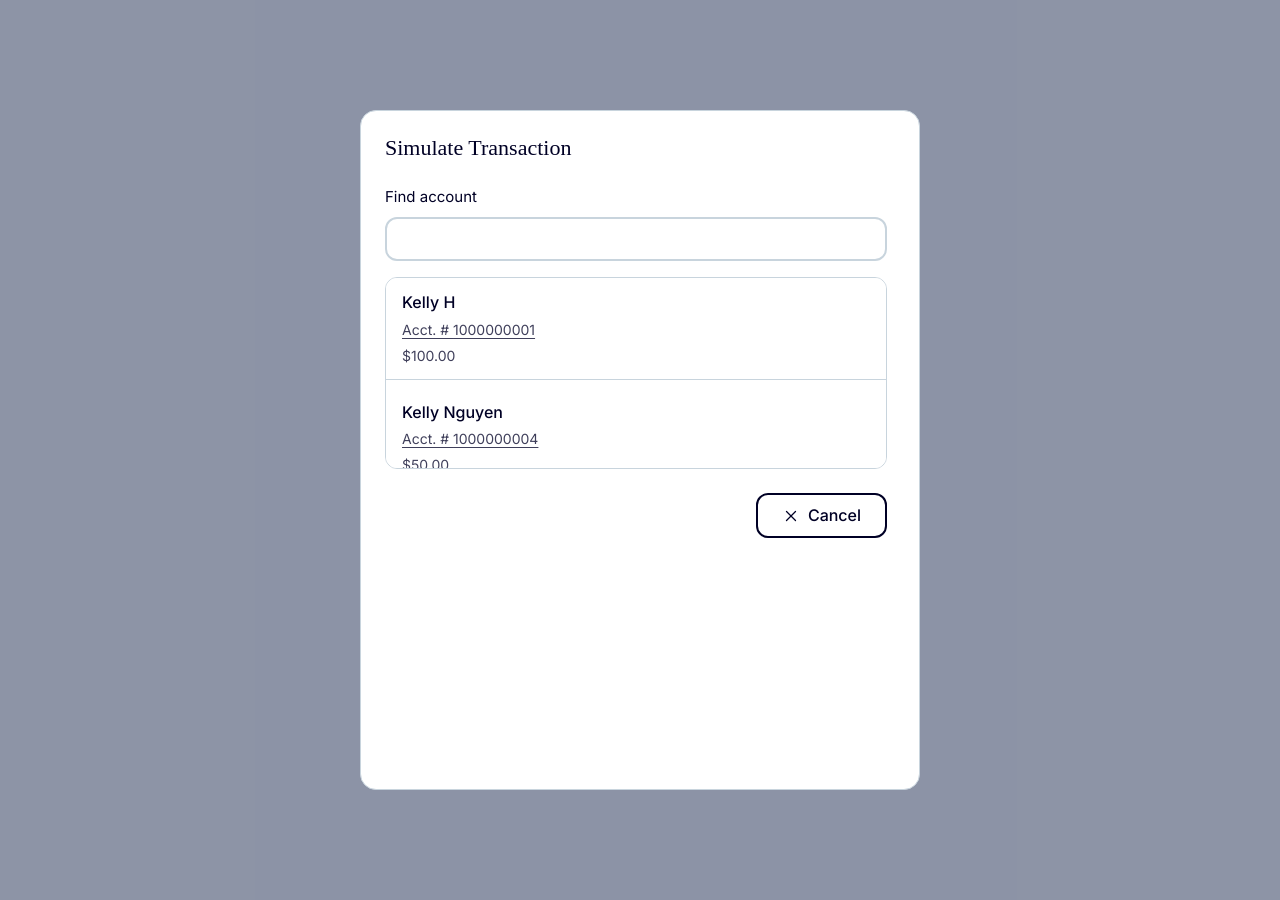
it: SimulateTransactionModal › shows purchase fields when a carded account is selected and a token is ready
Type "Kelly H" into the field labelled "Find account".
click(636, 239); type("Kelly H")  # box [385, 217, 887, 261]
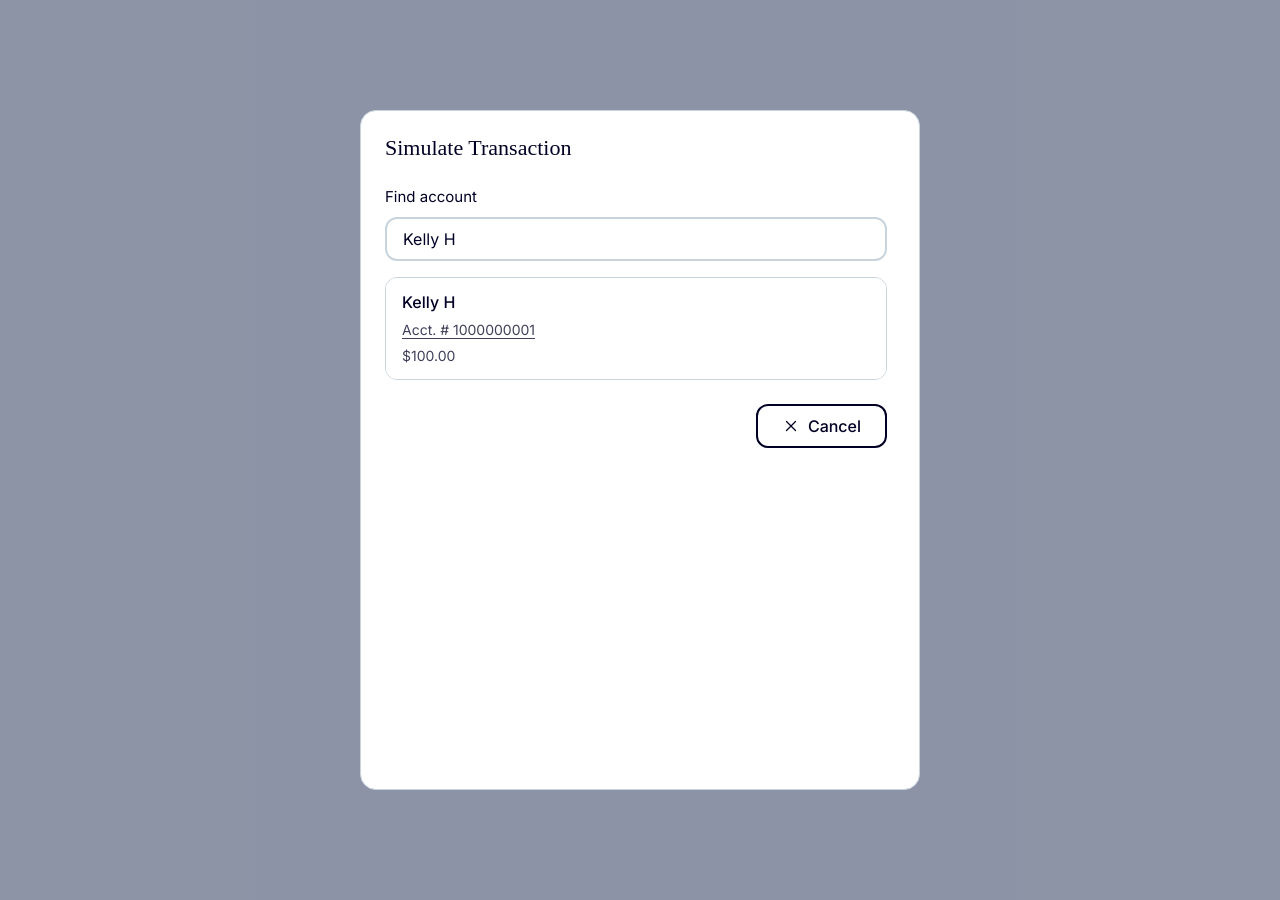
Click the button "Kelly H".
click(429, 303)  # box [402, 290, 455, 315]
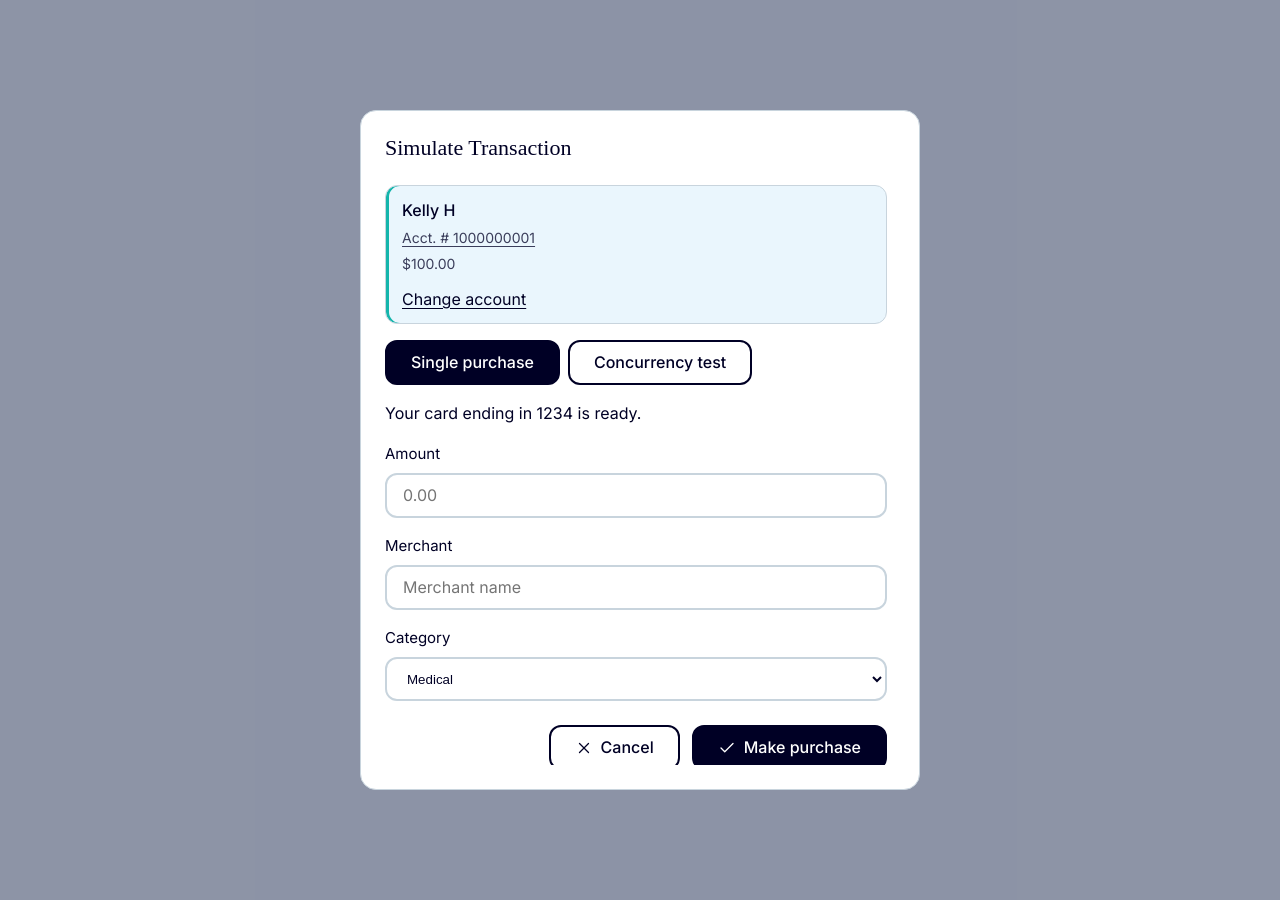
Now the field labelled "Merchant" is shown, box [385, 565, 887, 610]
Now the dropdown labelled "Category" is shown, box [385, 657, 887, 701]
Now the button "Make purchase" is enabled, box [692, 725, 887, 765]
